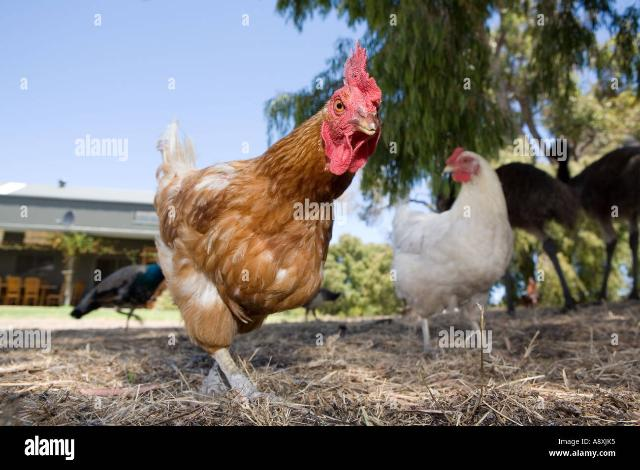Chicken: (154, 41, 383, 403), (392, 146, 512, 357)
